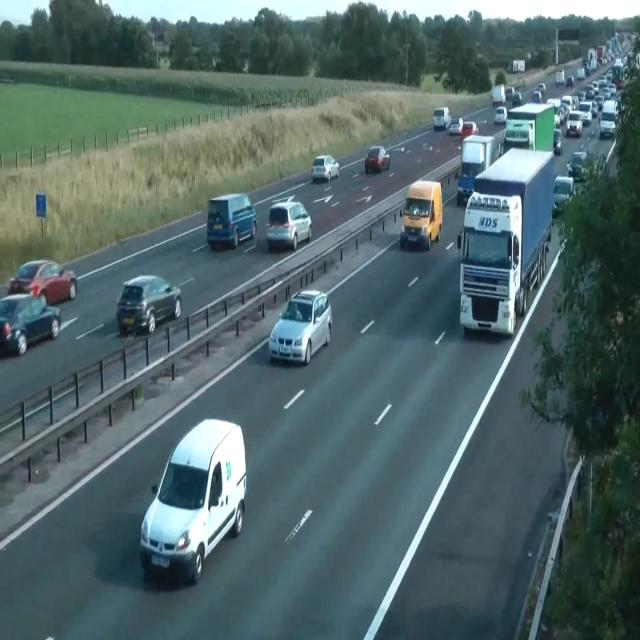bus: (116, 274, 182, 336), (0, 292, 62, 356), (310, 154, 340, 182), (364, 145, 390, 173), (456, 173, 474, 206), (460, 121, 478, 142), (553, 128, 563, 155), (494, 106, 508, 124), (449, 117, 463, 135), (532, 90, 542, 102), (538, 82, 546, 93), (566, 75, 574, 86)
jeep: (138, 417, 246, 584), (268, 288, 332, 364), (8, 258, 77, 305), (399, 178, 443, 250), (206, 192, 256, 250), (266, 198, 312, 250), (552, 174, 574, 214), (599, 99, 619, 138), (566, 150, 588, 180), (565, 109, 583, 137), (432, 106, 450, 130)
minibus: (456, 148, 554, 338), (456, 128, 506, 205), (503, 102, 555, 153), (491, 84, 506, 105), (507, 59, 525, 73), (556, 68, 564, 85)
